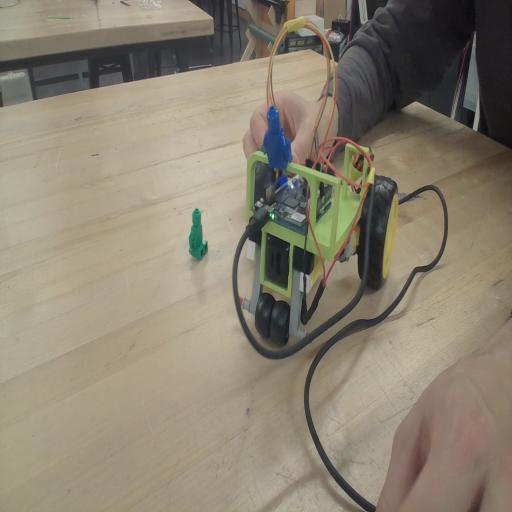blue LEGO minifig: (264, 100, 295, 178)
green LEGO minifig: (185, 205, 208, 264)
